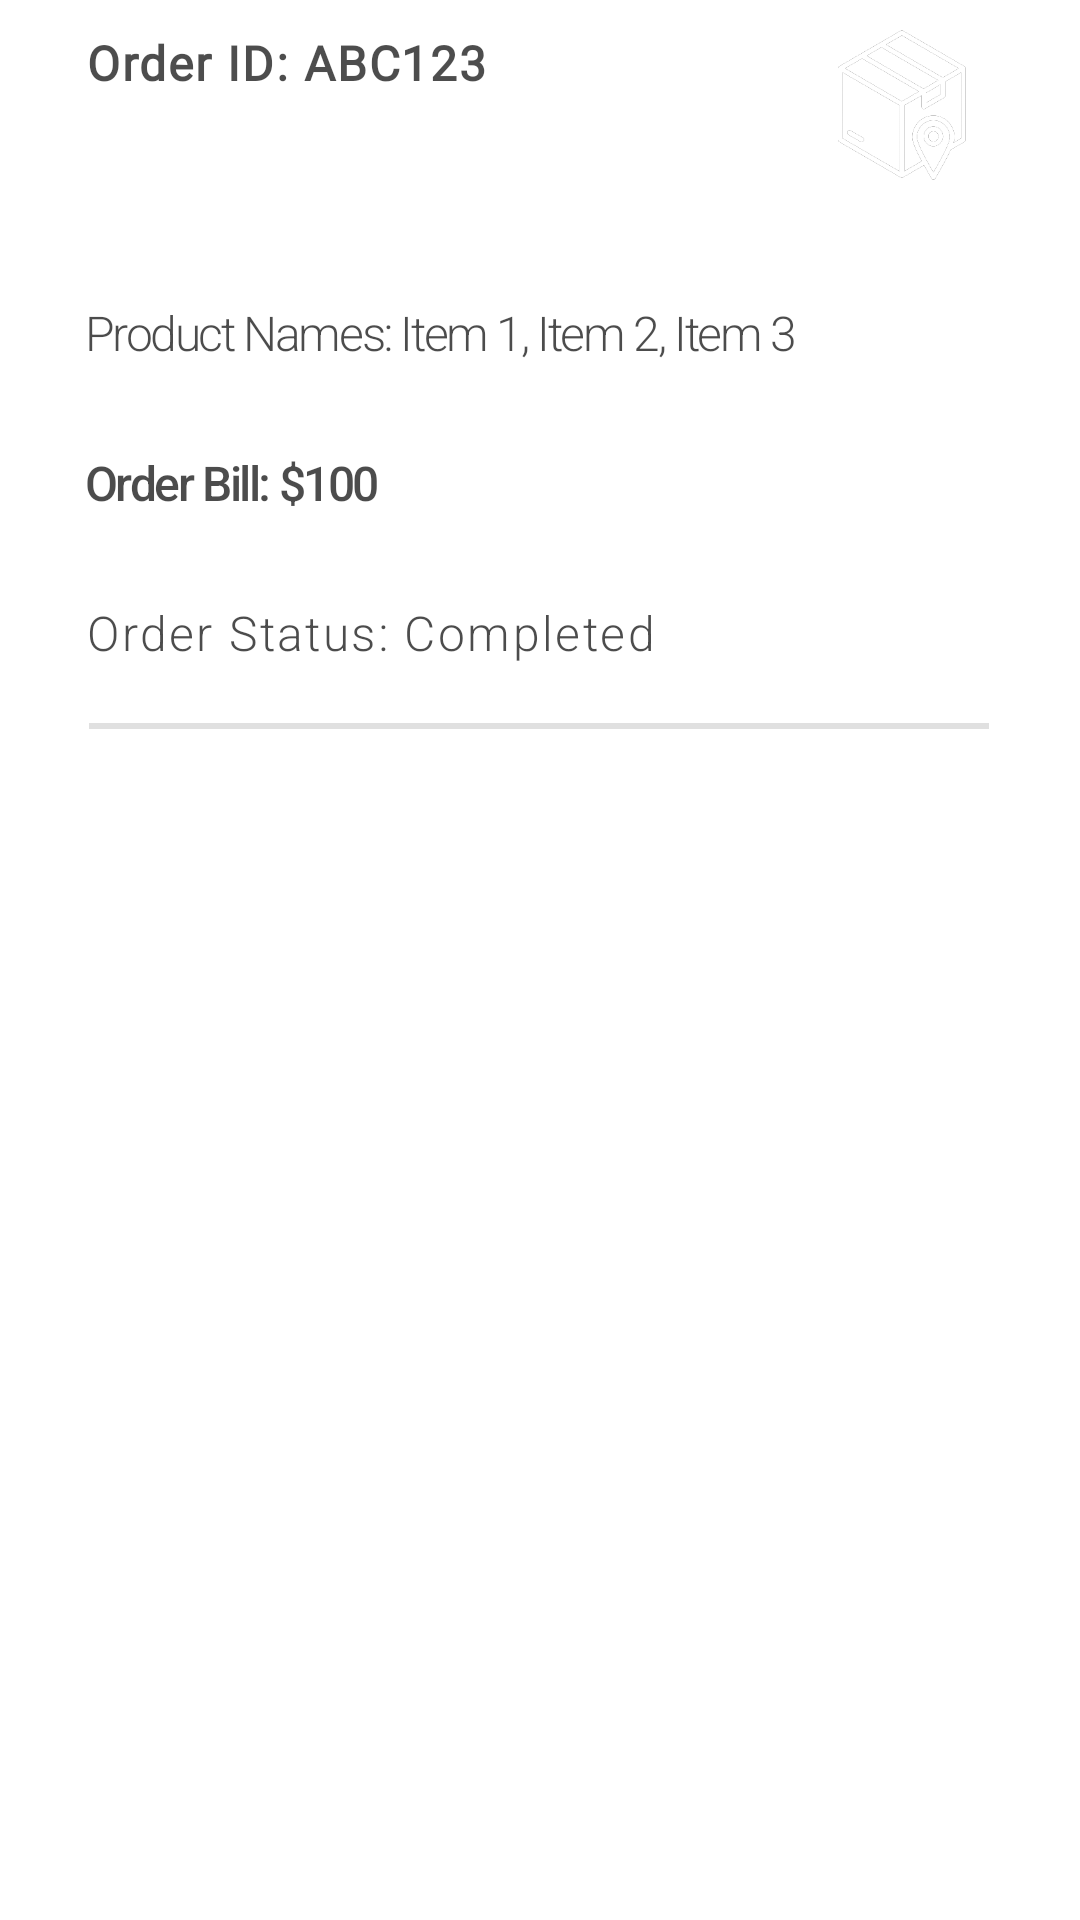

Where icons sit on this 1080*1920 app screen, as (x1, y1, x2, y2):
orders: (838, 30, 966, 180)
